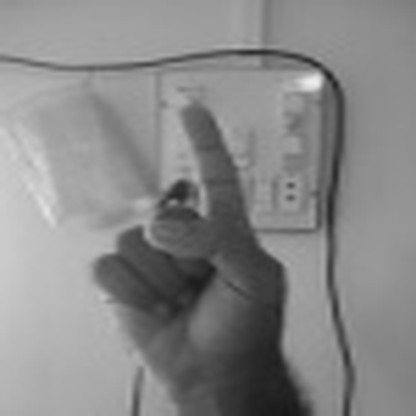d: (91, 100, 293, 380)
